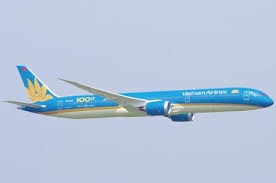maybay_dansu: (7, 64, 276, 125)
